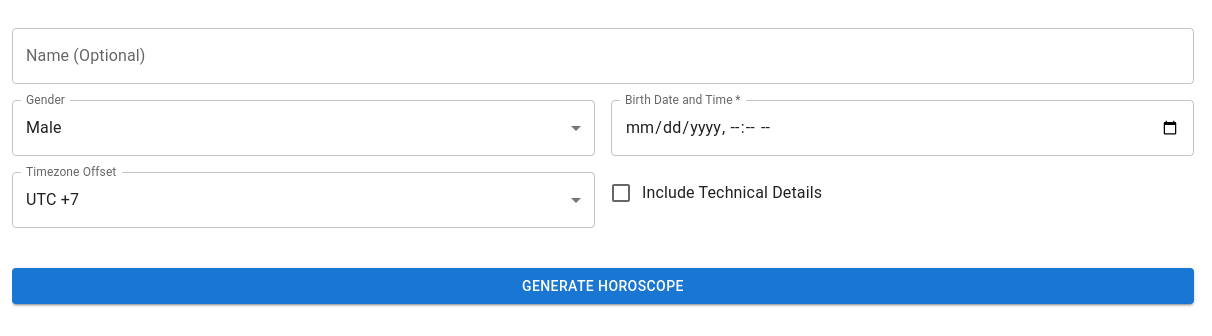
Test case: HoroscopeForm › shows validation errors for required fields
The image size is (1212, 336).
Step 1. Click the button "Generate Horoscope" → (603, 286), box left=12, top=268, right=1194, bottom=304
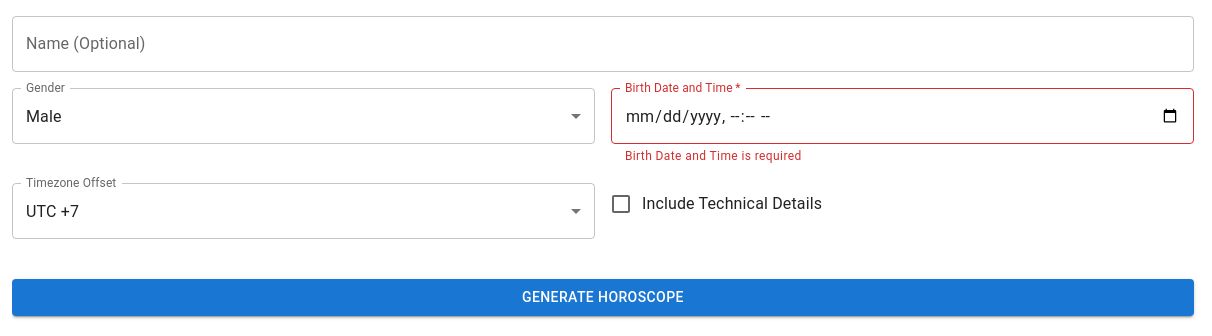
Check: the text "Birth Date and Time is required" is shown, box left=625, top=149, right=802, bottom=163
